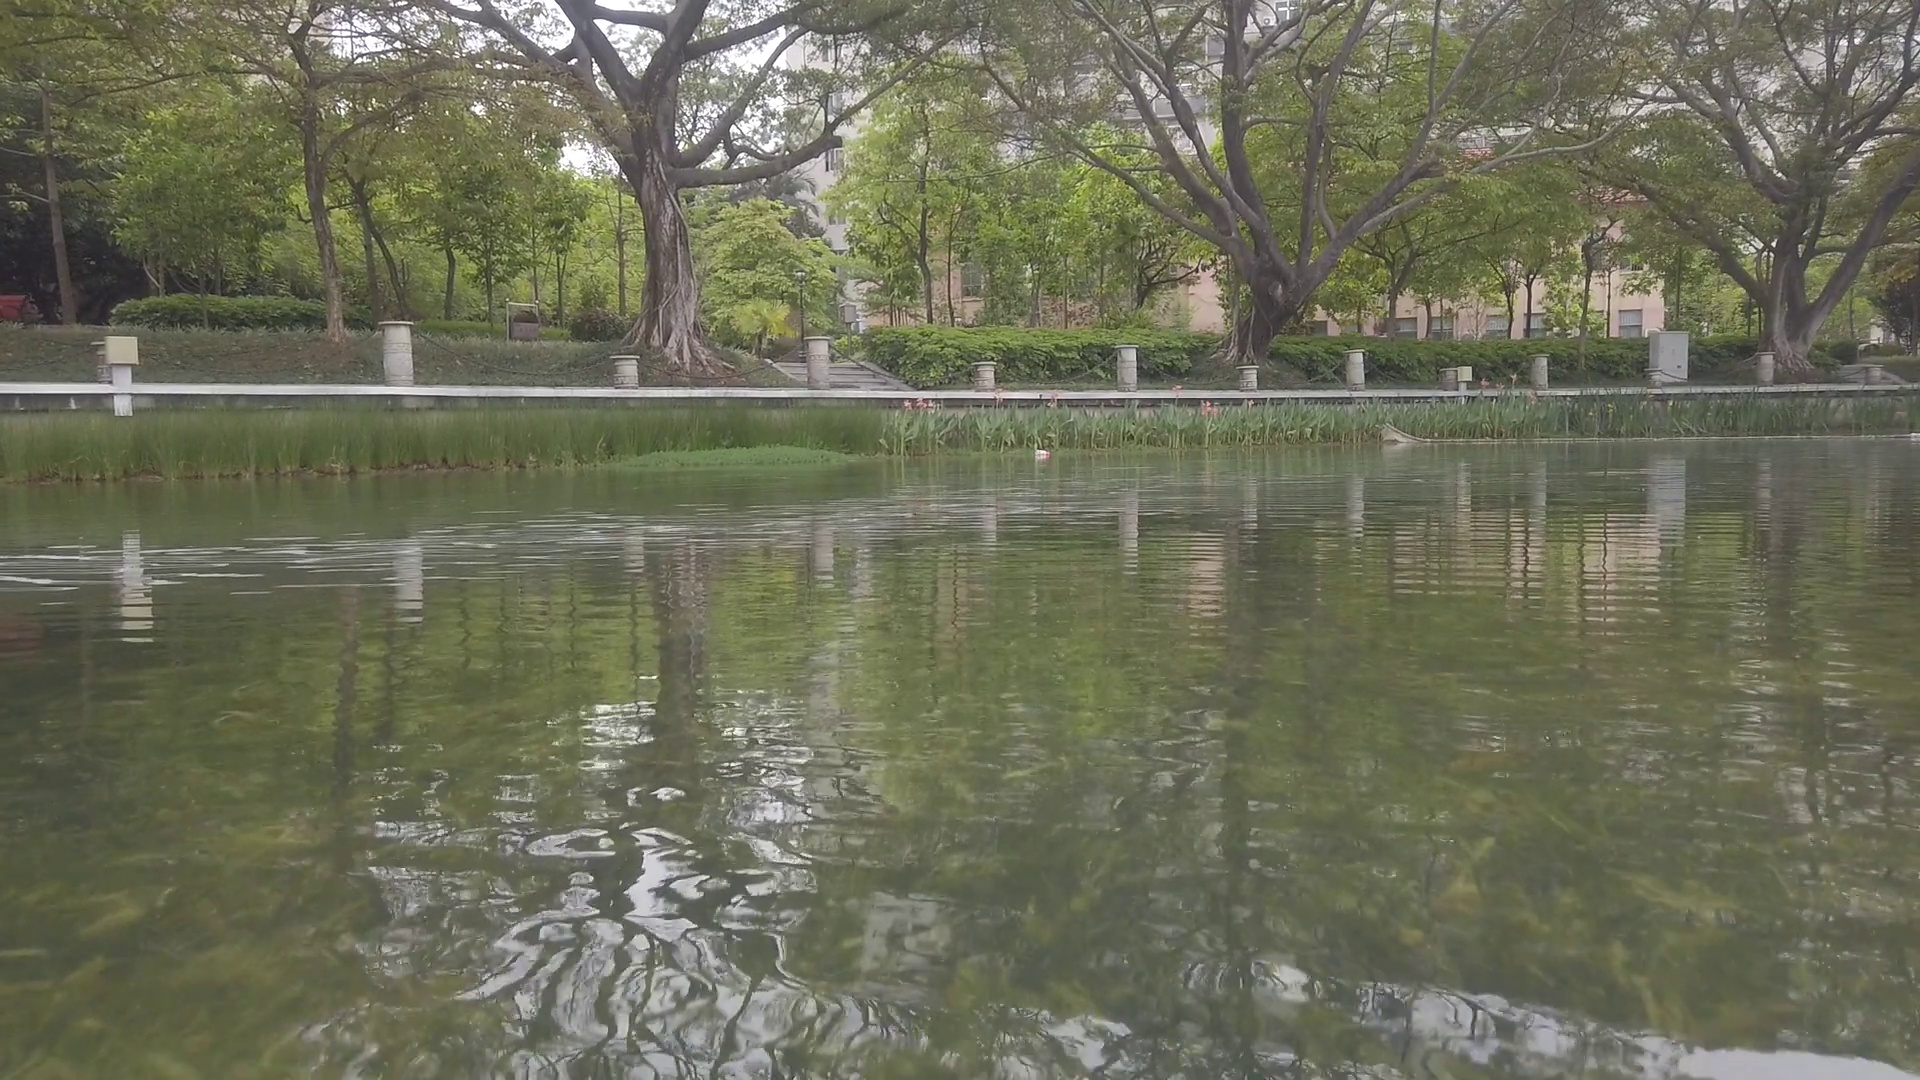bottle: (1034, 447, 1048, 458)
